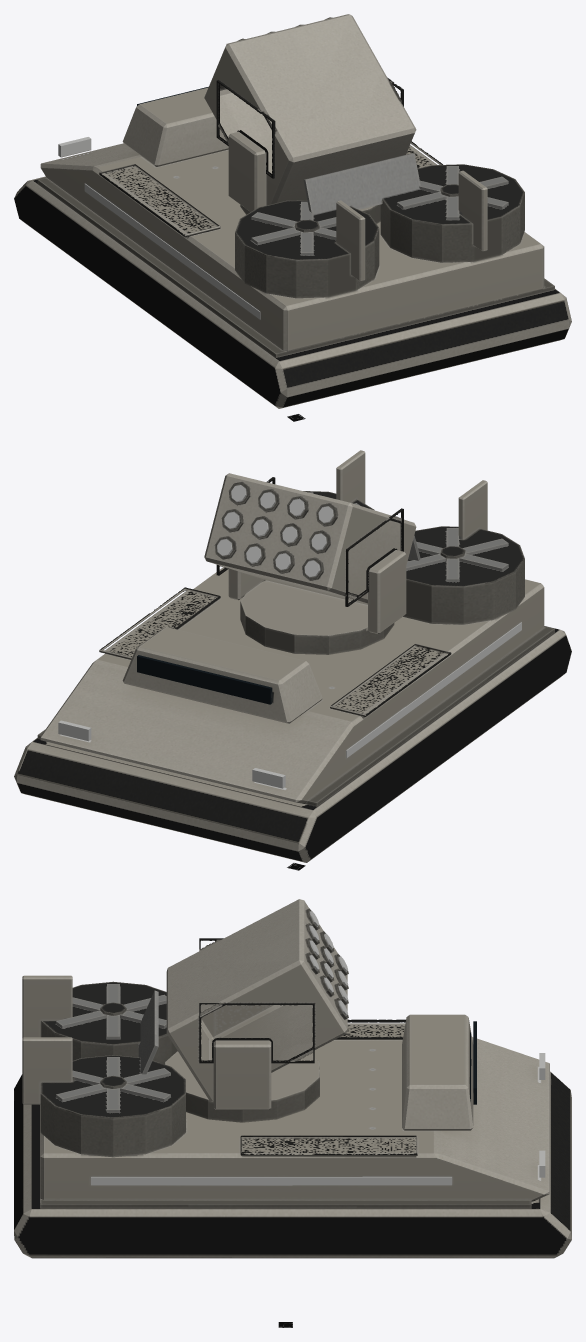
Rendered from ord_volley.fbx.
The picture shows the model from 3 angles, top to bottom: view 1: azimuth 30°, elevation 25°; view 2: azimuth 150°, elevation 25°; view 3: azimuth 270°, elevation 25°; orthographic projection. The views are drawn at different scales.
Visible parts, largest first — view 1: base_bar, turret_bar, fan1_bar, fan2_bar, base_glow_running_bar; view 2: base_bar, turret_bar, turret_glow_weapon_bar, fan1_bar, base_glow_running_bar, base_glow_head_bar; view 3: base_bar, turret_bar, base_glow_running_bar, fan2_bar, fan1_bar, turret_glow_weapon_bar.
Part boxes in pixels (<box>): base_bar: <box>14,87,571,408</box>; turret_bar: <box>204,14,420,223</box>; fan1_bar: <box>251,201,336,255</box>; fan2_bar: <box>397,166,508,220</box>; base_glow_running_bar: <box>84,183,260,319</box>; base_bar: <box>14,450,571,862</box>; turret_bar: <box>204,473,420,654</box>; turret_glow_weapon_bar: <box>217,485,333,576</box>; fan1_bar: <box>406,528,508,581</box>; base_glow_running_bar: <box>346,622,521,758</box>; base_glow_head_bar: <box>58,720,285,788</box>; base_bar: <box>14,975,571,1258</box>; turret_bar: <box>138,899,348,1122</box>; base_glow_running_bar: <box>91,1177,451,1185</box>; fan2_bar: <box>56,1057,170,1112</box>; fan1_bar: <box>56,984,166,1039</box>; turret_glow_weapon_bar: <box>309,911,348,1015</box>.
Bounding box in the file's own units: 480 × 604 × 772.
2 materials, 2 textured.
